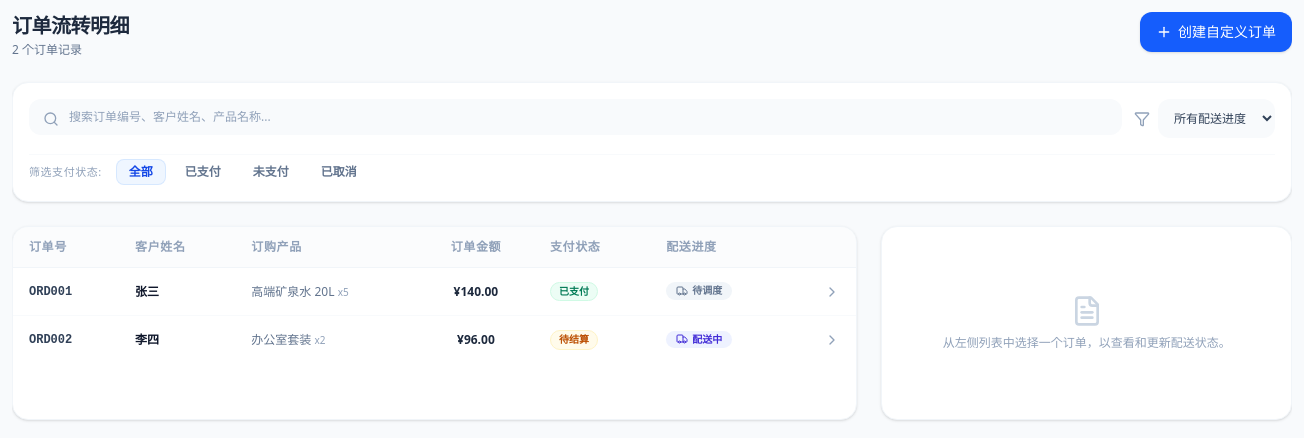
it: OrdersTab Component › filters orders by order ID search
Type "ORD002" into the field with placeholder "搜索订单编号、客户姓名、产品名称..." at point(576, 117), box [29, 99, 1122, 135]
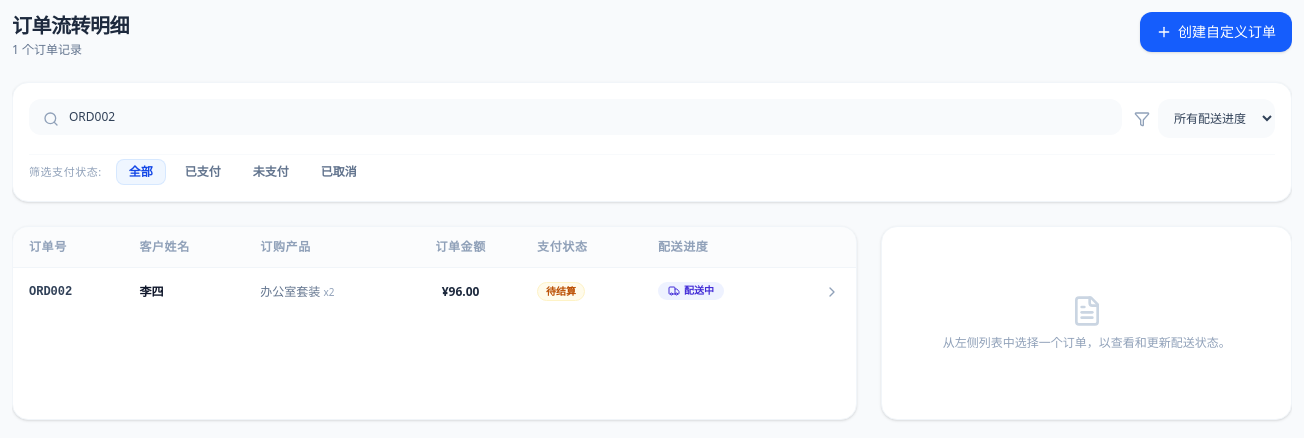
Expected: the text "李四" is shown, [123, 268, 244, 315]
Expected: the text "张三" is gone
